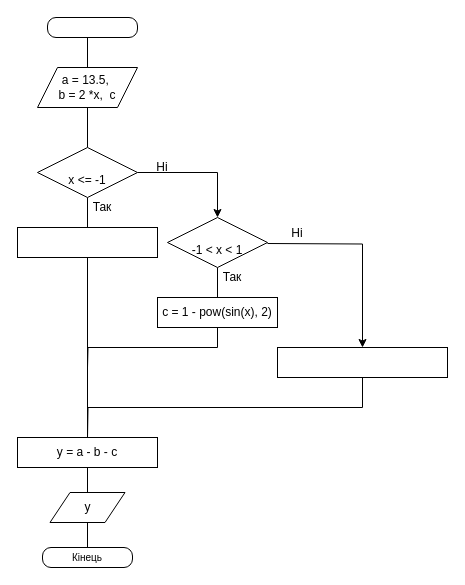
Image size: 465x585. Some labels were removed from this diagram. The shapes that lost their labels are listed below. From the top down, each one's centre as x and y in pixels, then its label:
[92,27]: Початок
[87,242]: c = pow(M_E, (0.4 + x))
[362,362]: c = cos(x) / (1 + pow(sin(x), 2))
